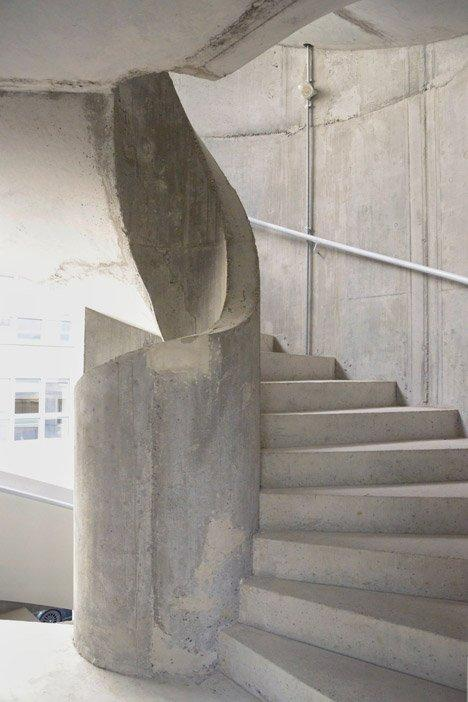Bench: (230, 330, 450, 694)
